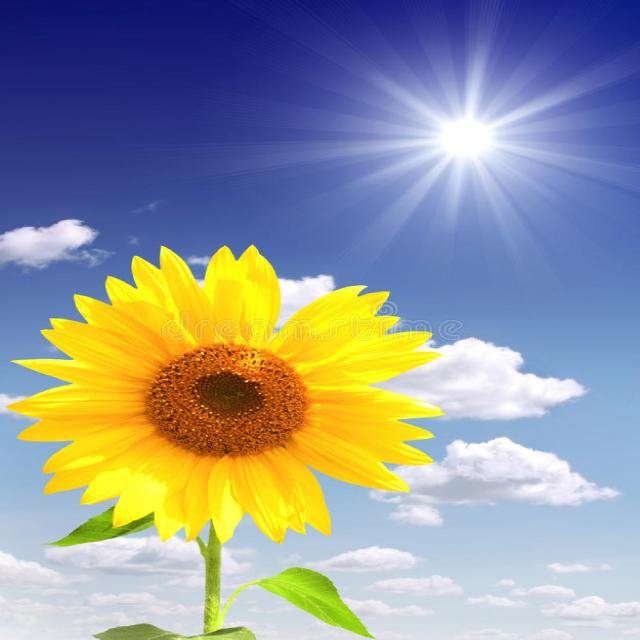sunflower: (7, 230, 461, 556)
